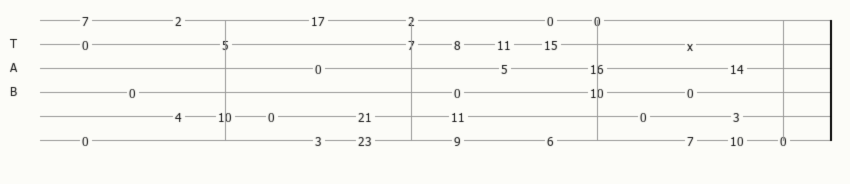0: (82, 38, 93, 51), (82, 134, 93, 147), (129, 86, 140, 99), (268, 110, 279, 123), (315, 62, 326, 75), (454, 86, 465, 99), (547, 14, 558, 27), (594, 14, 605, 27), (640, 110, 651, 123), (687, 86, 698, 99), (780, 134, 791, 147)
10: (218, 110, 236, 123), (590, 86, 608, 99), (730, 134, 748, 147)
11: (451, 110, 469, 123), (497, 38, 515, 51)
14: (730, 62, 748, 75)
15: (544, 38, 562, 51)
16: (590, 62, 608, 75)
17: (311, 14, 329, 27)
2: (175, 14, 186, 27), (408, 14, 419, 27)
21: (358, 110, 376, 123)
23: (358, 134, 376, 147)
3: (315, 134, 326, 147), (733, 110, 744, 123)
4: (175, 110, 186, 123)
5: (222, 38, 233, 51), (501, 62, 512, 75)
6: (547, 134, 558, 147)
7: (82, 14, 93, 27), (408, 38, 419, 51), (687, 134, 698, 147)
8: (454, 38, 465, 51)
9: (454, 134, 465, 147)
x: (687, 39, 697, 50)
